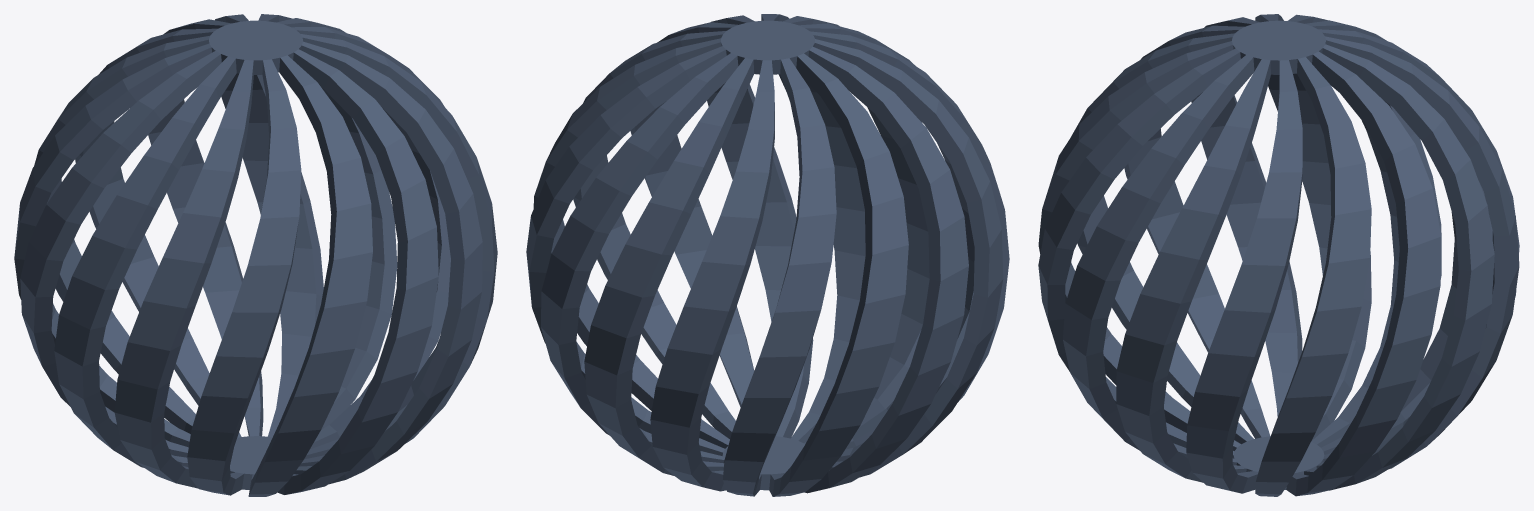
Rendered from SteelSpiral_Ball.fbx.
The picture shows the model from 3 angles, left to right: view 1: azimuth 30°, elevation 25°; view 2: azimuth 150°, elevation 25°; view 3: azimuth 270°, elevation 25°; orthographic projection.
Visible parts, largest first — view 1: Sphere; view 2: Sphere; view 3: Sphere.
Part boxes in pixels (<box>): Sphere: <box>14,14,497,496</box>; Sphere: <box>526,14,1009,496</box>; Sphere: <box>1038,14,1519,496</box>.
Bounding box in the file's own units: 7544 × 7433 × 7544.
